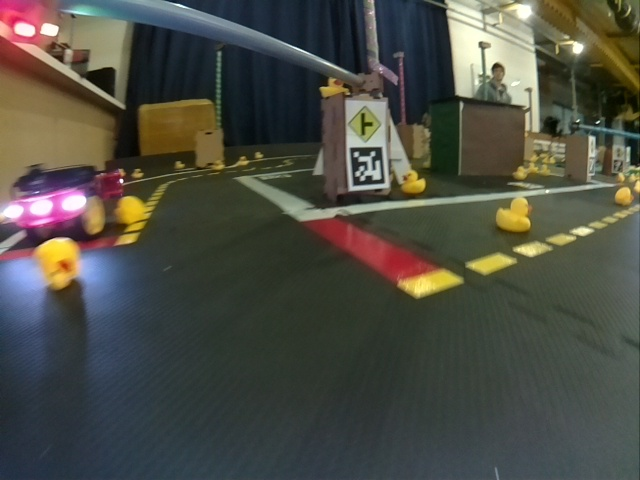Duckie: (36, 238, 77, 284), (497, 198, 531, 228), (113, 196, 145, 221), (319, 76, 348, 96), (401, 171, 426, 194), (615, 188, 630, 205), (513, 167, 527, 178), (131, 168, 144, 179), (527, 163, 537, 173), (539, 166, 550, 175), (238, 157, 248, 166), (175, 161, 184, 170), (212, 161, 221, 170), (254, 151, 263, 159)
Duckiebot: (5, 165, 121, 237)
Intersection sign: (347, 104, 382, 142)
QR code: (348, 147, 384, 187)
